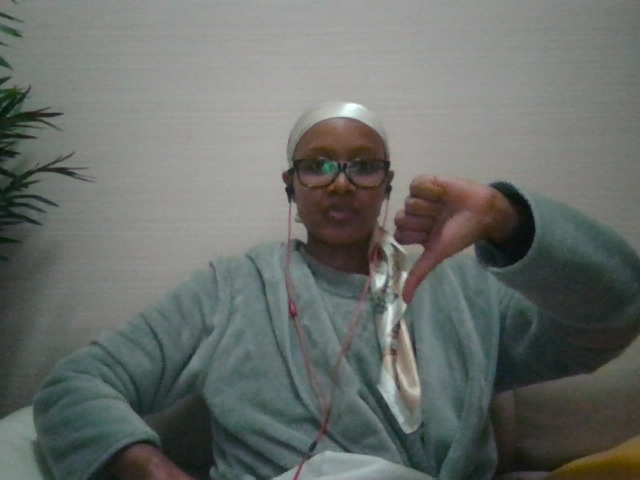dislike: (388, 170, 511, 311)
